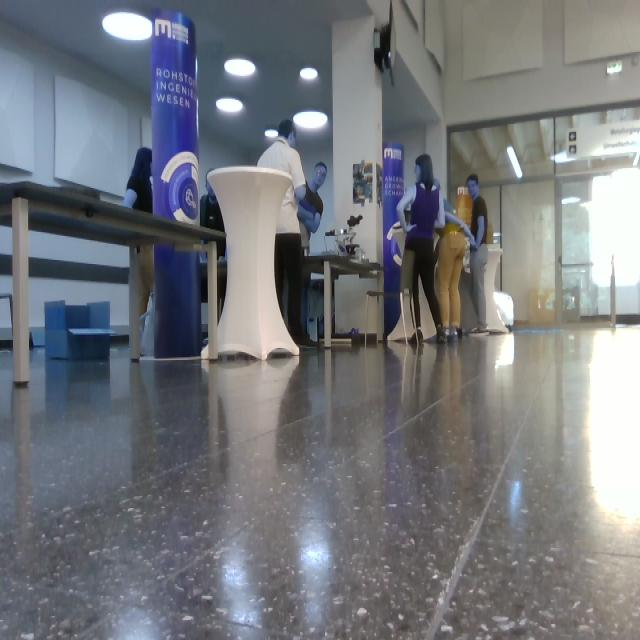door: (558, 169, 640, 325), (501, 179, 557, 327)
light bulb: (102, 11, 153, 43), (293, 110, 328, 129), (224, 57, 256, 77), (507, 145, 523, 178), (216, 97, 243, 113), (300, 66, 318, 81), (606, 61, 623, 74), (265, 129, 279, 138)
person: (257, 120, 324, 349), (396, 154, 448, 345), (466, 175, 489, 335)
pillar: (150, 8, 203, 360), (207, 165, 300, 361)
tiled floor: (1, 324, 639, 640)
